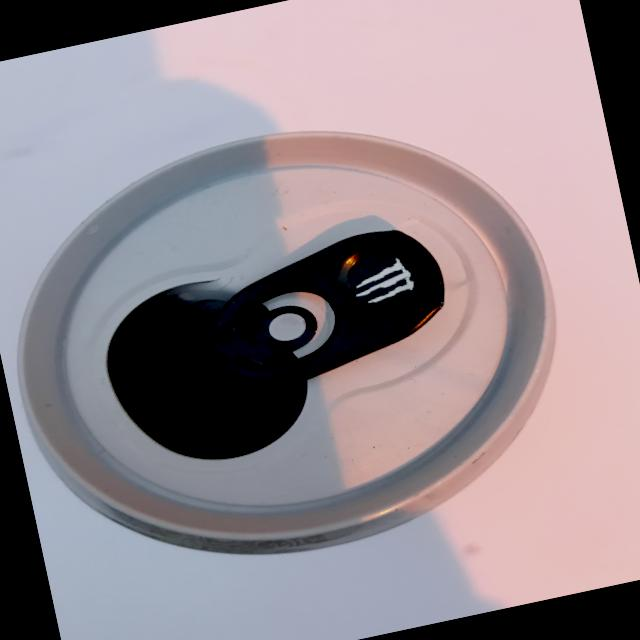Metal: (0, 59, 624, 615)
